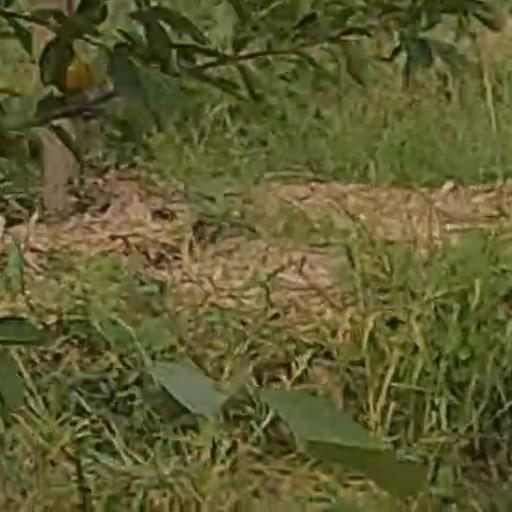acerola_vermelha: (61, 63, 90, 94)
